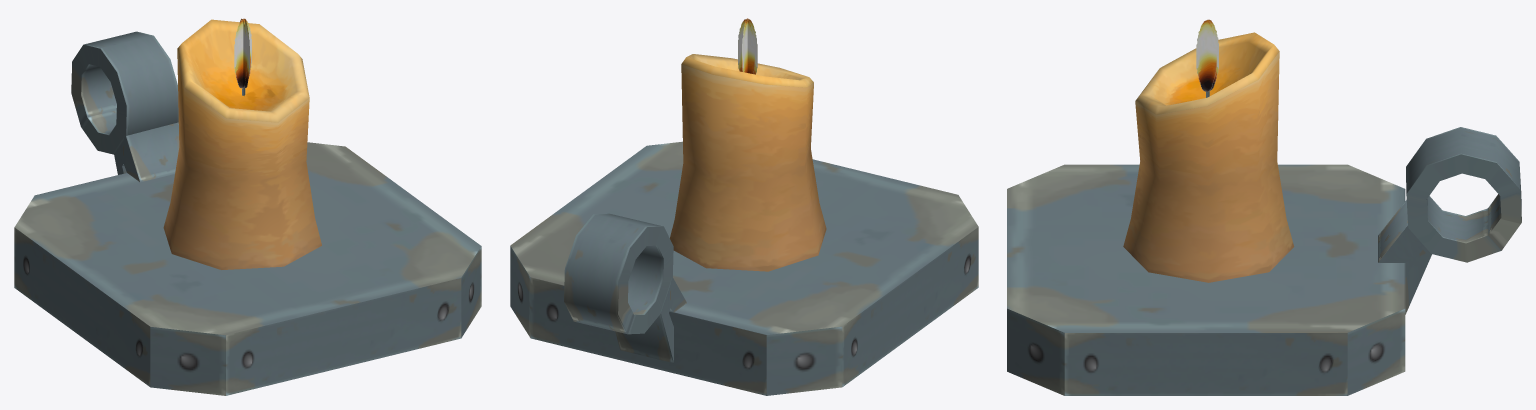
File: Lantern_02.FBX
The picture shows the model from 3 angles, left to right: view 1: azimuth 30°, elevation 25°; view 2: azimuth 150°, elevation 25°; view 3: azimuth 270°, elevation 25°; orthographic projection. The views are drawn at different scales.
Parts seen in each view (by area): view 1: Lantern_02, Candle_01, Flame; view 2: Lantern_02, Candle_01, Flame; view 3: Lantern_02, Candle_01, Flame.
Part boxes in pixels (<box>): Lantern_02: <box>14,31,481,395</box>; Candle_01: <box>163,19,321,269</box>; Flame: <box>234,18,251,88</box>; Lantern_02: <box>510,141,978,395</box>; Candle_01: <box>670,54,826,271</box>; Flame: <box>738,18,757,74</box>; Lantern_02: <box>1007,127,1521,395</box>; Candle_01: <box>1123,32,1294,282</box>; Flame: <box>1196,19,1218,91</box>.
Size of the model in its own units: 0.2502 by 0.2016 by 0.3236.
